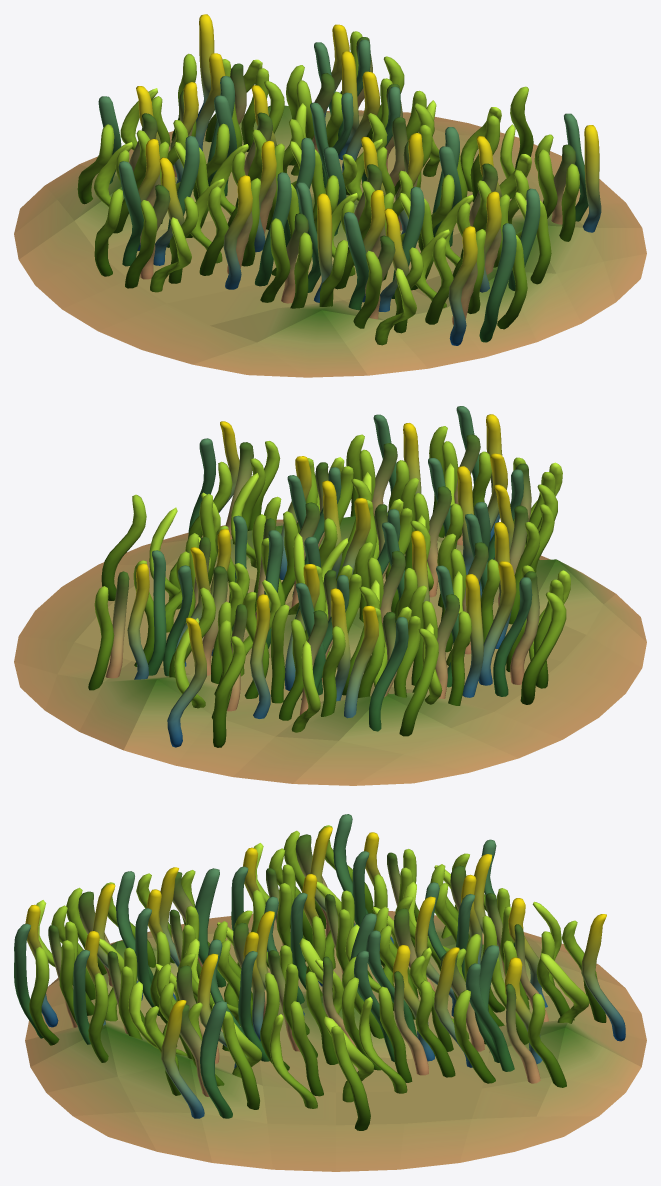
Rendered from Seaweeds.fbx.
The picture shows the model from 3 angles, top to bottom: view 1: azimuth 30°, elevation 25°; view 2: azimuth 150°, elevation 25°; view 3: azimuth 270°, elevation 25°; orthographic projection.
Visible parts, largest first — view 1: Seaweeds, Seaweeds Ground; view 2: Seaweeds, Seaweeds Ground; view 3: Seaweeds, Seaweeds Ground.
Boxes of the visible parts, x1,y1,x2,y2 form: Seaweeds: (77,14,601,345); Seaweeds Ground: (14,105,646,377); Seaweeds: (88,406,570,747); Seaweeds Ground: (14,512,646,785); Seaweeds: (14,814,625,1130); Seaweeds Ground: (25,911,646,1171).
Bounding box in the file's own units: 1894 × 437 × 1928.
1 material, 1 textured.
